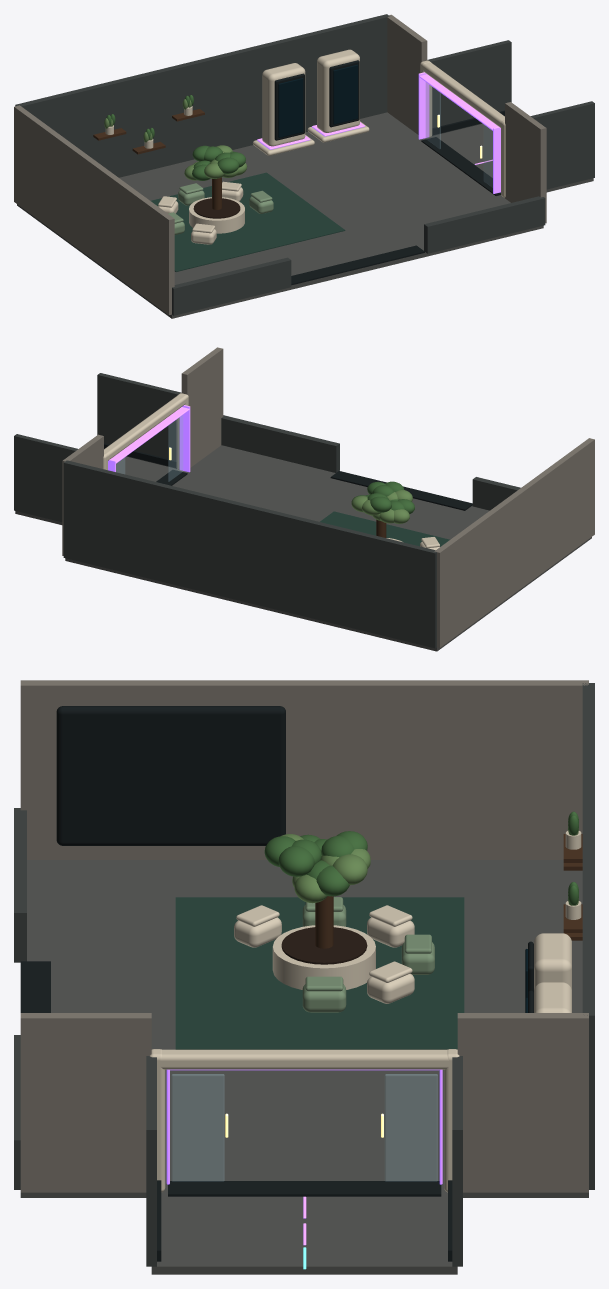
File: project-lobby.glb
The picture shows the model from 3 angles, top to bottom: view 1: azimuth 30°, elevation 25°; view 2: azimuth 150°, elevation 25°; view 3: azimuth 270°, elevation 25°; orthographic projection. The views are drawn at different scales.
Visible parts, largest first — view 1: Lobby_Ground, Lobby_BackWall, Lobby_LeftWall, Lobby_Rug, Lobby_ProjectConnector_BackWall, Lobby_ProjectConnector_FrontWall, Lobby_FrontWall_Right, Lobby_FrontWall_Left, Lobby_RightWall_Front, Lobby_RightWall_Back, Lobby_ProjectConnector_Floor, Lobby_Kiosk_Body (+17 smaller); view 2: Lobby_BackWall, Lobby_LeftWall, Lobby_Ground, Lobby_ProjectConnector_FrontWall, Lobby_ProjectConnector_BackWall, Lobby_FrontWall_Right, Lobby_RightWall_Front, Lobby_Rug, Lobby_ProjectDoor_Right_Header, Lobby_ProjectConnector_Floor, Lobby_FrontWall_Left, Lobby_EntryThreshold (+4 smaller); view 3: Lobby_Ground, Lobby_LeftWall, Lobby_AI_Board_Frame, Lobby_Rug, Lobby_RightWall_Front, Lobby_RightWall_Back, Lobby_ProjectConnector_Floor, Lobby_ProjectDoor_Right_Header, Lobby_ProjectDoor_Glass_Front, Lobby_ProjectDoor_Glass_Back, Lobby_BackWall, Lobby_ProjectDoor_Right_Threshold (+18 smaller).
Part boxes in pixels (<box>): Lobby_Ground: <box>17,112,543,318</box>; Lobby_BackWall: <box>15,14,389,177</box>; Lobby_LeftWall: <box>14,105,174,314</box>; Lobby_Rug: <box>151,172,345,271</box>; Lobby_ProjectConnector_BackWall: <box>427,40,511,135</box>; Lobby_ProjectConnector_FrontWall: <box>530,101,594,189</box>; Lobby_FrontWall_Right: <box>424,196,545,253</box>; Lobby_FrontWall_Left: <box>172,257,291,315</box>; Lobby_RightWall_Front: <box>505,102,546,223</box>; Lobby_RightWall_Back: <box>387,14,427,134</box>; Lobby_ProjectConnector_Floor: <box>426,123,593,192</box>; Lobby_Kiosk_Body: <box>262,63,305,146</box>; Lobby_BackWall: <box>63,460,436,648</box>; Lobby_LeftWall: <box>434,438,594,647</box>; Lobby_Ground: <box>65,445,591,651</box>; Lobby_ProjectConnector_FrontWall: <box>97,373,181,468</box>; Lobby_ProjectConnector_BackWall: <box>14,434,77,521</box>; Lobby_FrontWall_Right: <box>221,415,339,472</box>; Lobby_RightWall_Front: <box>181,347,223,467</box>; Lobby_Rug: <box>320,511,449,546</box>; Lobby_ProjectDoor_Right_Header: <box>103,395,187,461</box>; Lobby_ProjectConnector_Floor: <box>15,456,181,524</box>; Lobby_FrontWall_Left: <box>472,477,520,510</box>; Lobby_EntryThreshold: <box>330,471,472,510</box>; Lobby_Ground: <box>20,860,588,1197</box>; Lobby_LeftWall: <box>20,680,588,859</box>; Lobby_AI_Board_Frame: <box>56,706,285,845</box>; Lobby_Rug: <box>175,897,464,1049</box>; Lobby_RightWall_Front: <box>20,1013,151,1192</box>; Lobby_RightWall_Back: <box>457,1013,588,1192</box>; Lobby_ProjectConnector_Floor: <box>151,1190,457,1274</box>; Lobby_ProjectDoor_Right_Header: <box>157,1049,452,1069</box>; Lobby_ProjectDoor_Glass_Front: <box>171,1074,224,1181</box>; Lobby_ProjectDoor_Glass_Back: <box>385,1074,437,1181</box>; Lobby_BackWall: <box>582,683,594,1189</box>; Lobby_ProjectDoor_Right_Threshold: <box>168,1181,441,1196</box>.
Bounding box in the file's own units: 22.46 × 4.6 × 13.29.
